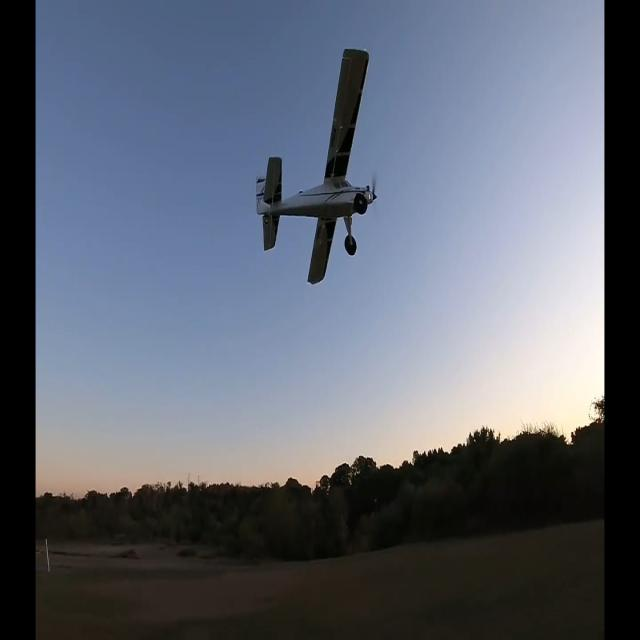iha: (288, 44, 347, 285)
